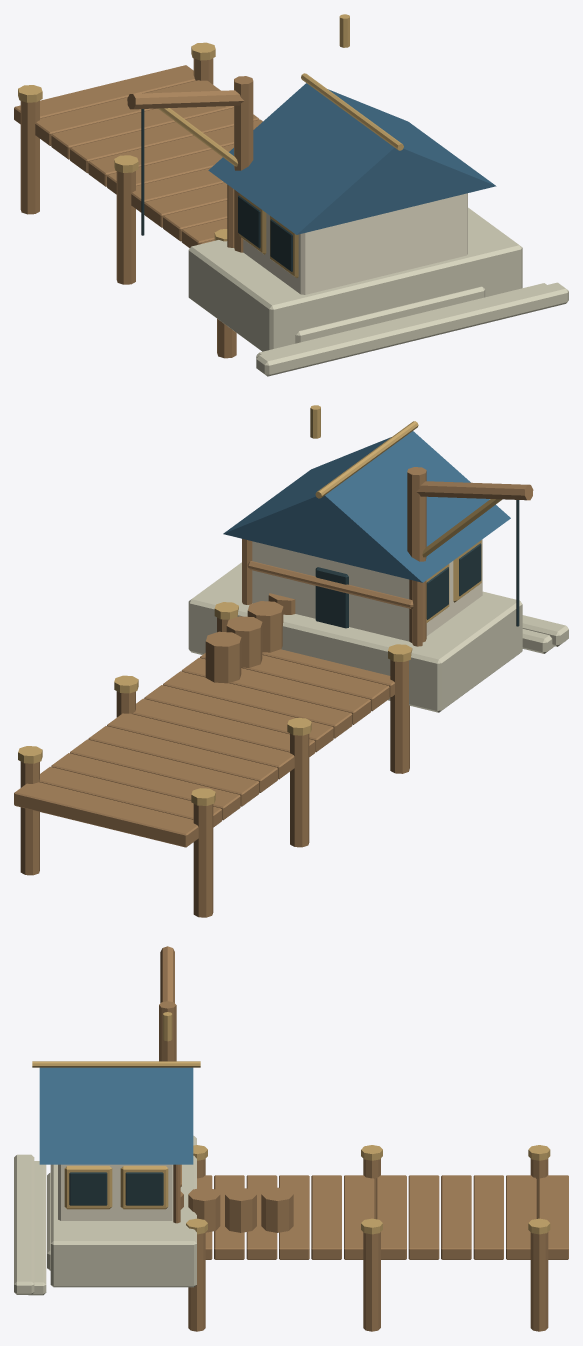
File: level_13.glb
3 renders of one model, top to bottom at view 1: azimuth 30°, elevation 25°; view 2: azimuth 150°, elevation 25°; view 3: azimuth 270°, elevation 25°, orthographic. The views are drawn at different scales.
Parts seen in each view (by area): view 1: fishing_wharf — level 13; view 2: fishing_wharf — level 13; view 3: fishing_wharf — level 13.
Boxes of the visible parts, x1,y1,x2,y2 form: fishing_wharf — level 13: (14,14,568,376); fishing_wharf — level 13: (14,405,568,917); fishing_wharf — level 13: (14,946,568,1331).
Bounding box in the file's own units: 4.84 × 4.27 × 7.58.
